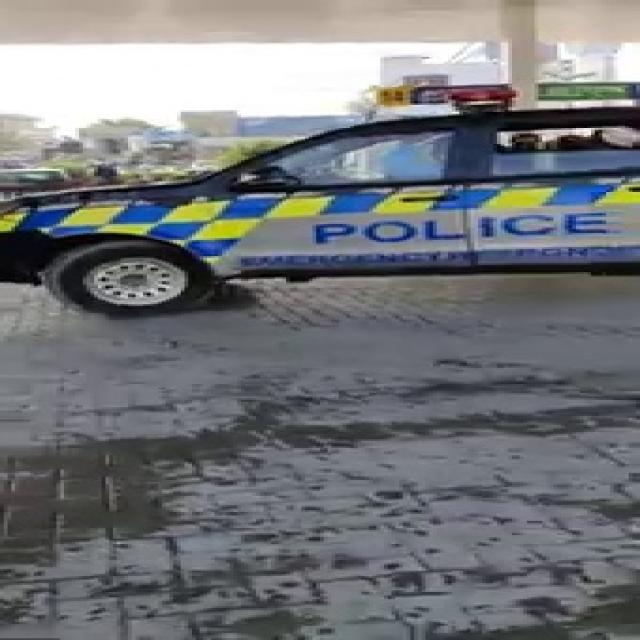police: (26, 93, 640, 296)
